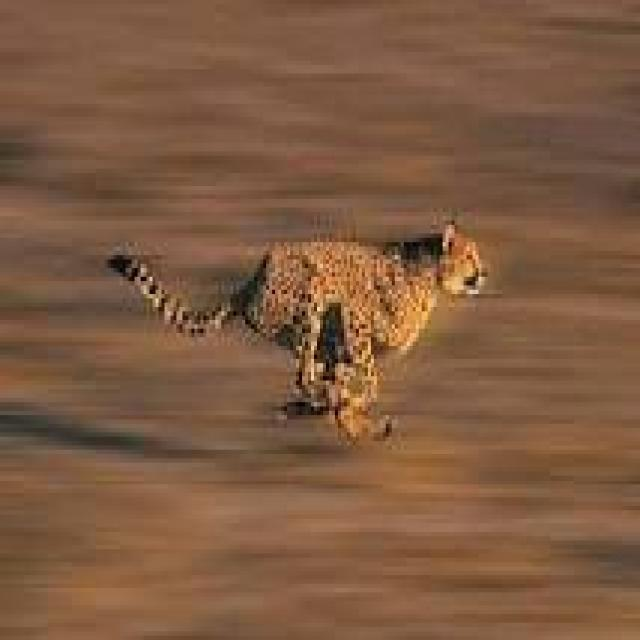Cheetah: (104, 216, 492, 454)
